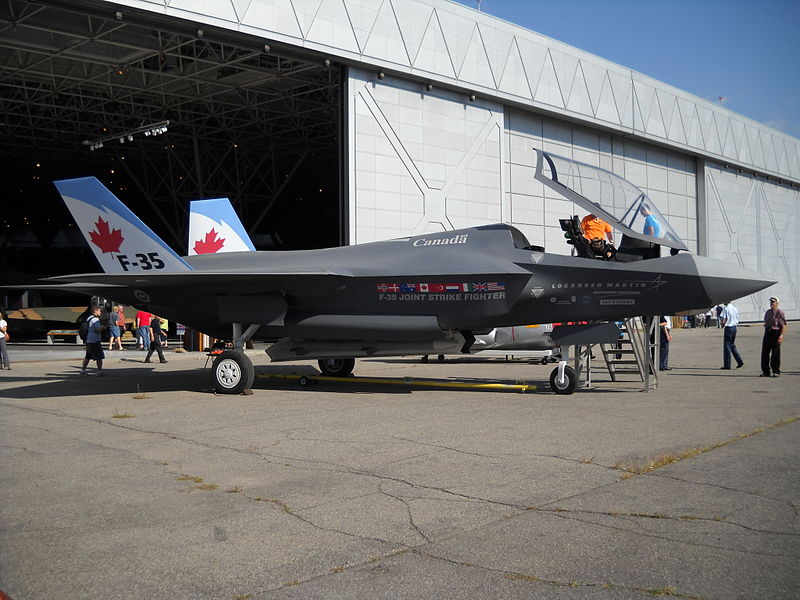F-35 Lightning: (17, 112, 783, 414)
